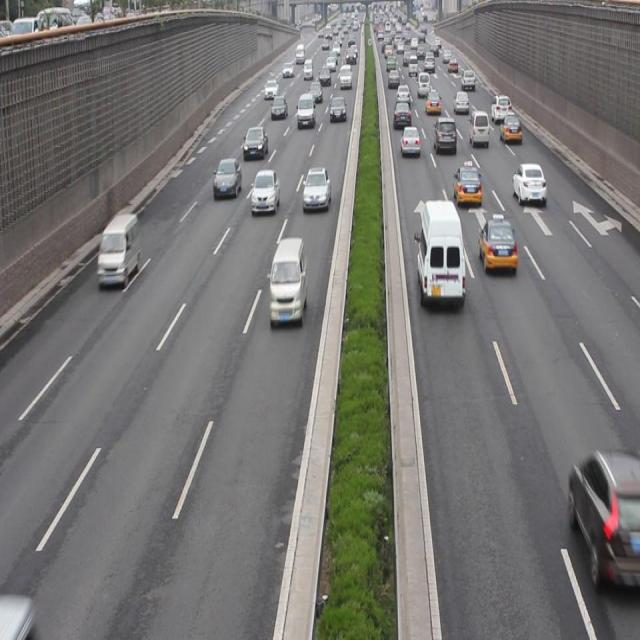car: (566, 450, 640, 592), (478, 214, 517, 275), (511, 162, 546, 208), (250, 171, 279, 215), (301, 168, 330, 212), (452, 164, 482, 206), (212, 158, 240, 200), (432, 117, 457, 153), (243, 126, 267, 157), (499, 111, 520, 145), (399, 125, 420, 156)
truck: (414, 198, 465, 307), (268, 238, 305, 326), (98, 214, 140, 287), (469, 110, 488, 147)
